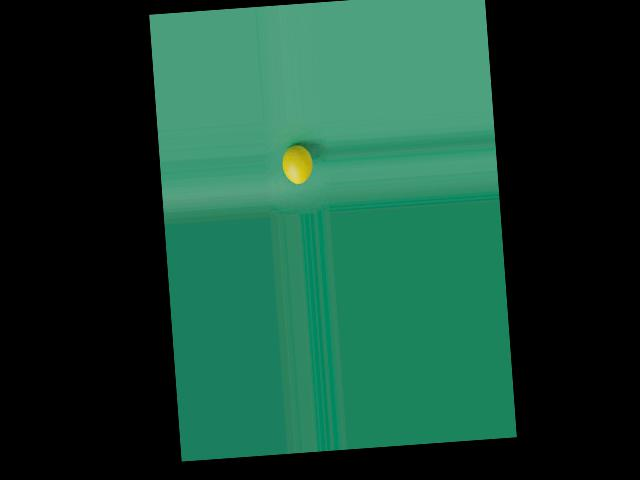egg: (280, 144, 312, 185)
